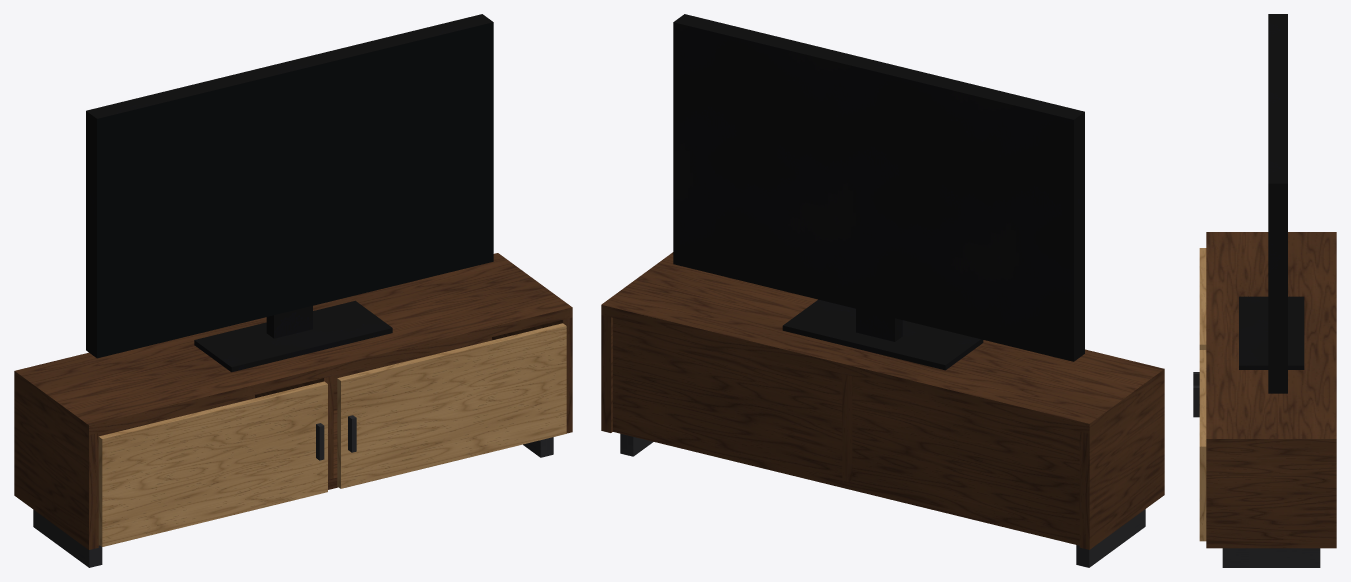
3 renders of one model, left to right at view 1: azimuth 30°, elevation 25°; view 2: azimuth 150°, elevation 25°; view 3: azimuth 270°, elevation 25°, orthographic. The views are drawn at different scales.
Parts seen in each view (by area): view 1: TVConsole_Game; view 2: TVConsole_Game; view 3: TVConsole_Game.
Boxes of the visible parts, x1=… form: TVConsole_Game: x1=14, y1=14, x2=572, y2=567; TVConsole_Game: x1=601, y1=14, x2=1164, y2=567; TVConsole_Game: x1=1193, y1=14, x2=1336, y2=567.
Bounding box in the file's own units: 1.5 × 1.25 × 0.44.
Materials: 5 (5 with a texture image).
